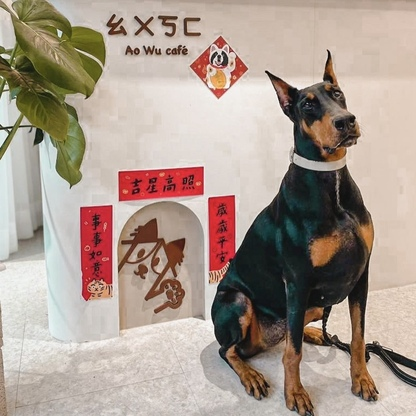doberman: (207, 48, 386, 416)
